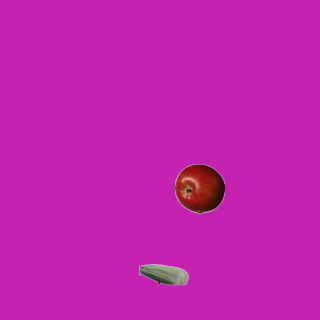Apple Braeburn: (174, 163, 224, 213)
Corn Husk: (138, 249, 188, 299)
